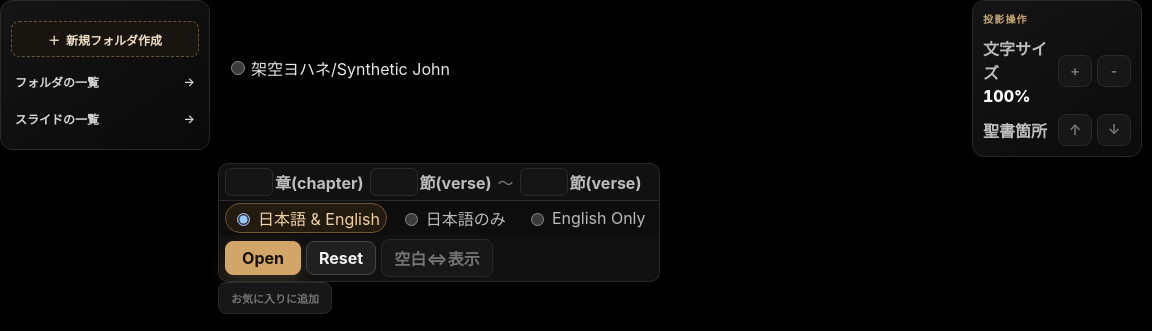
Test: ScriptureSearch › controls the ready audience with unmodified arrow keys from the search page
Click the radio button labelled "架空ヨハネ/Synthetic John": (238, 68) [231, 61, 245, 75]
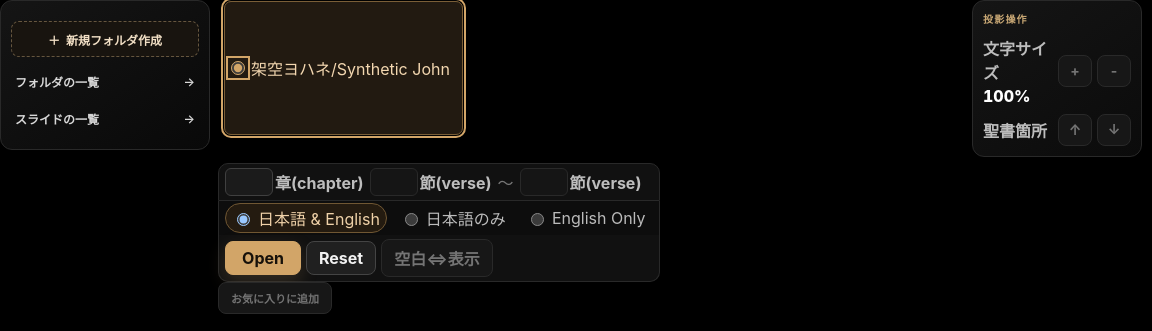
In the field labelled "章": (249, 182) [225, 168, 273, 196], type "3"
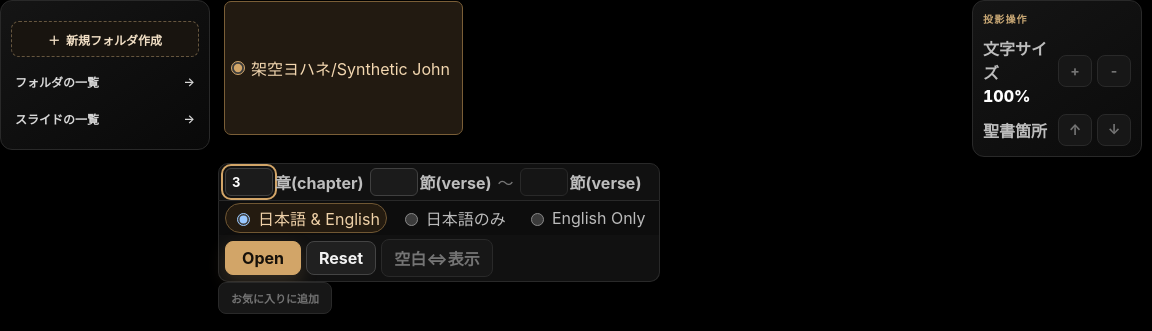
In the field named "開始節": (394, 182) [370, 168, 418, 196], type "16"
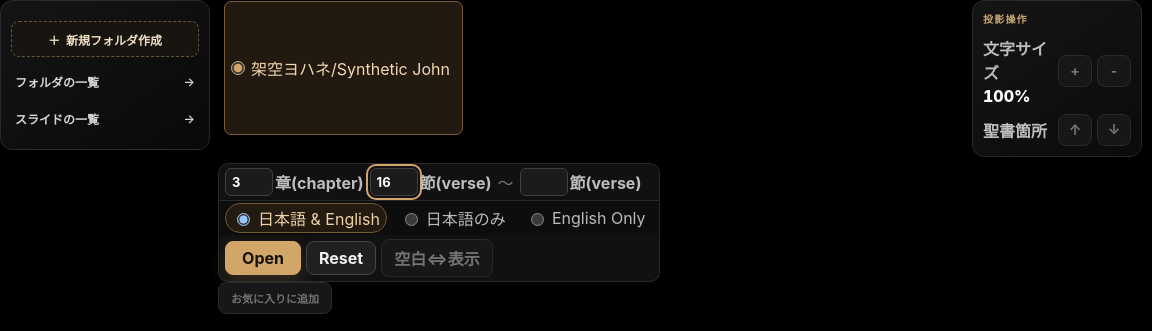
In the field named "終了節（省略可）": (544, 182) [520, 168, 568, 196], type "17"
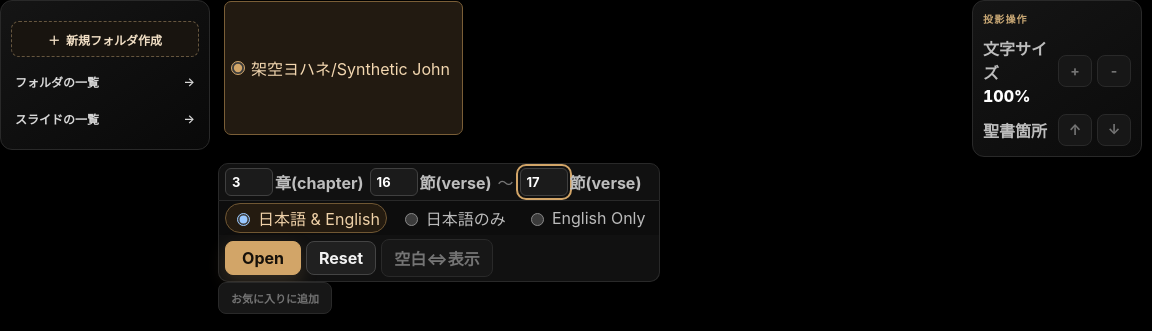
Click the button "Open": (263, 258) [225, 240, 301, 274]
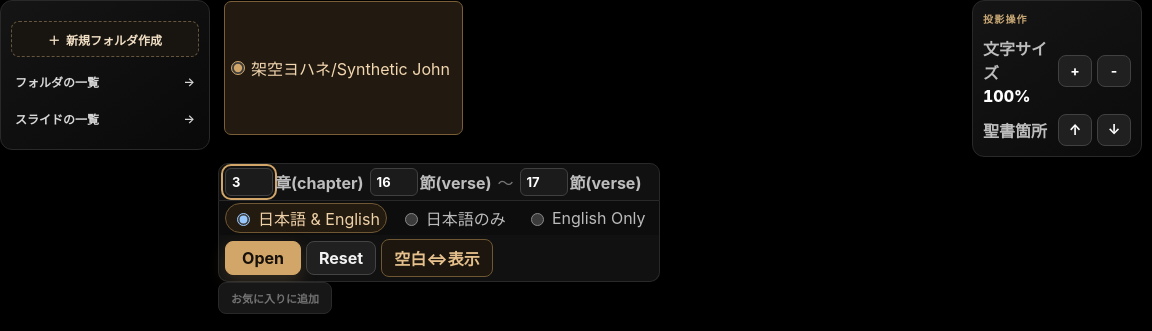
Result: the button named "次の御言葉へ" is enabled at [1097, 114, 1131, 146]
